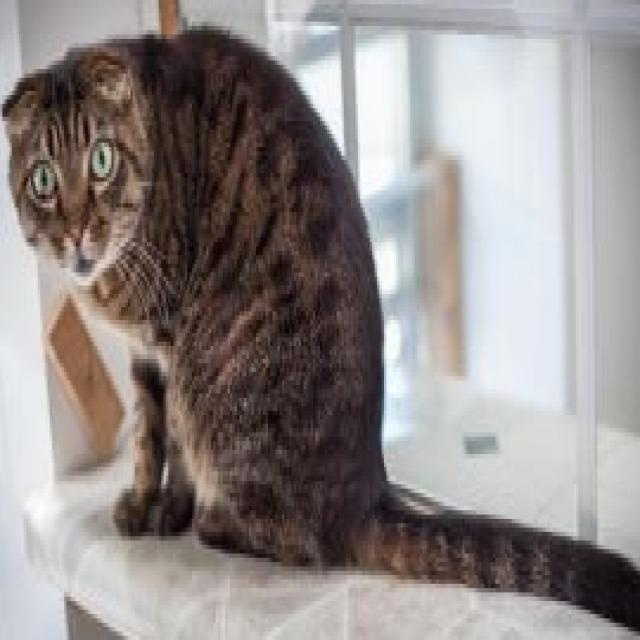Scottish Fold: (0, 13, 640, 640)
